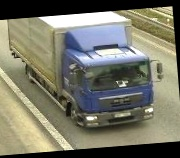truck: (6, 7, 167, 135)
